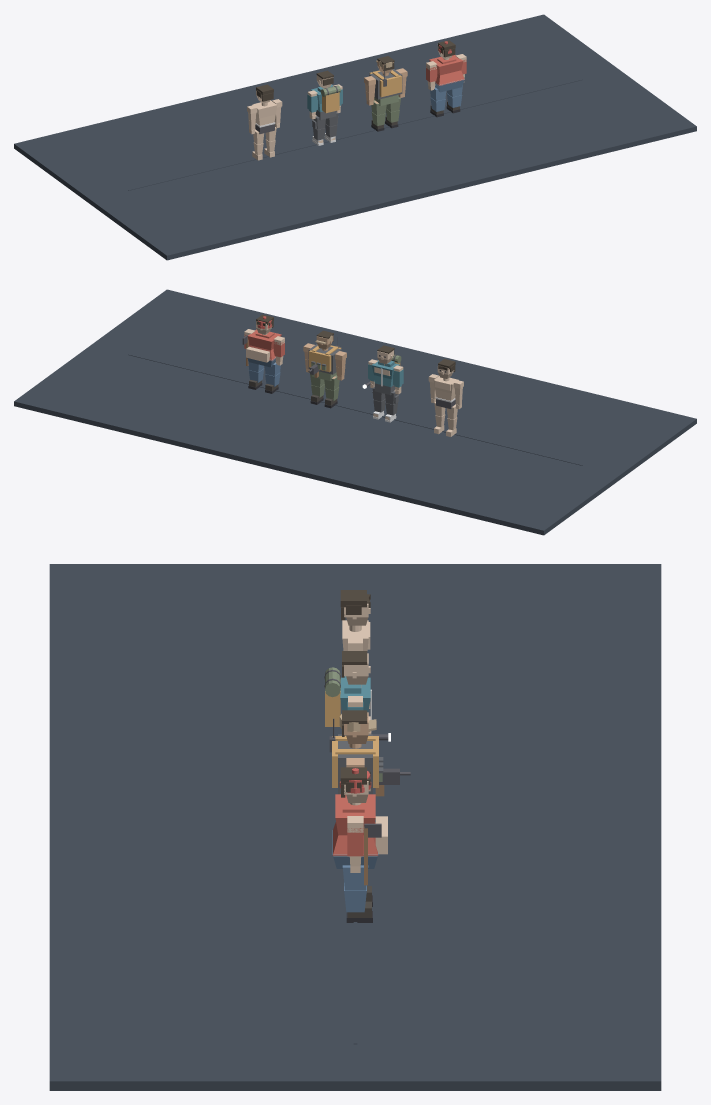
Rendered from character_engine_showcase.glb.
3 renders of one model, top to bottom at view 1: azimuth 30°, elevation 25°; view 2: azimuth 150°, elevation 25°; view 3: azimuth 270°, elevation 25°, orthographic. The views are drawn at different scales.
Parts seen in each view (by area): view 1: StudioPedestal, CharacterEngine_Showcase_Group; view 2: StudioPedestal, CharacterEngine_Showcase_Group; view 3: StudioPedestal, CharacterEngine_Showcase_Group.
Boxes of the visible parts, <box> form: StudioPedestal: <box>14,14,696,260</box>; CharacterEngine_Showcase_Group: <box>247,40,466,160</box>; StudioPedestal: <box>14,289,696,535</box>; CharacterEngine_Showcase_Group: <box>242,314,463,436</box>; StudioPedestal: <box>49,564,661,1090</box>; CharacterEngine_Showcase_Group: <box>324,590,410,922</box>.
Size of the model in its own units: 14 by 1.91 by 7.
